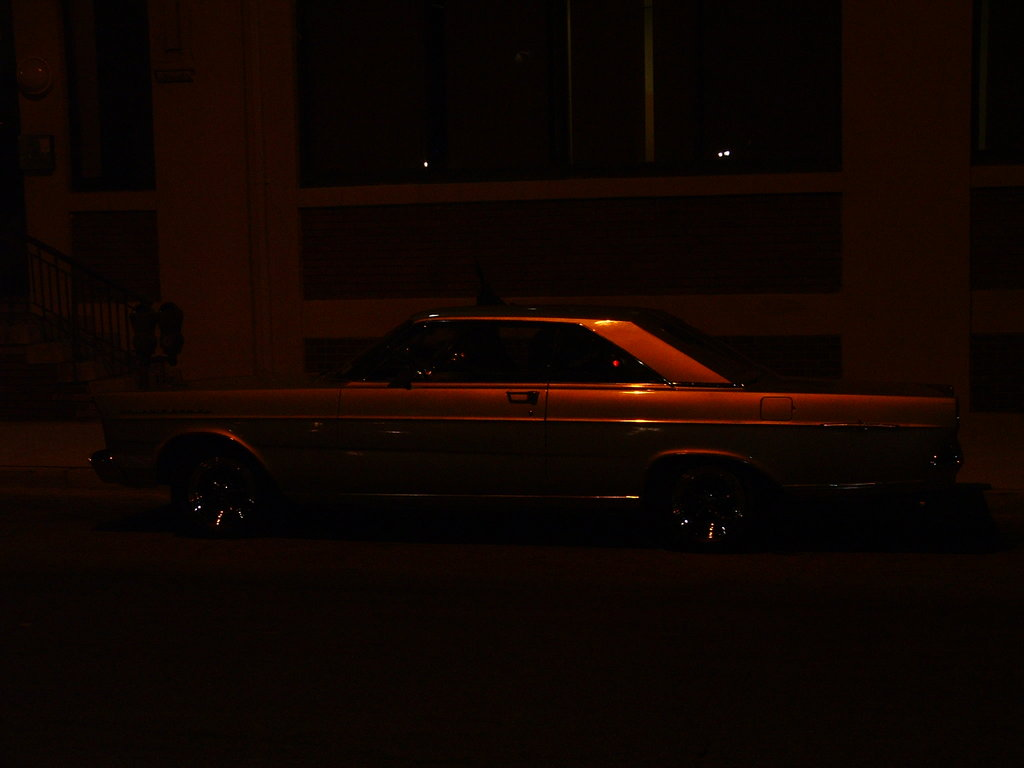car: (83, 288, 982, 561)
